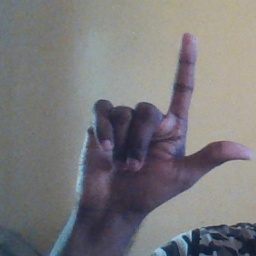L: (65, 32, 254, 208)
